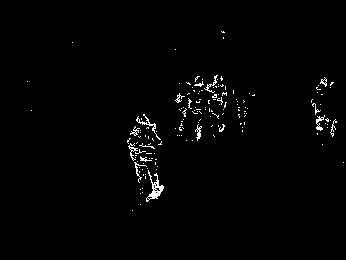person: (125, 112, 165, 202), (187, 71, 208, 142), (205, 74, 229, 134)
